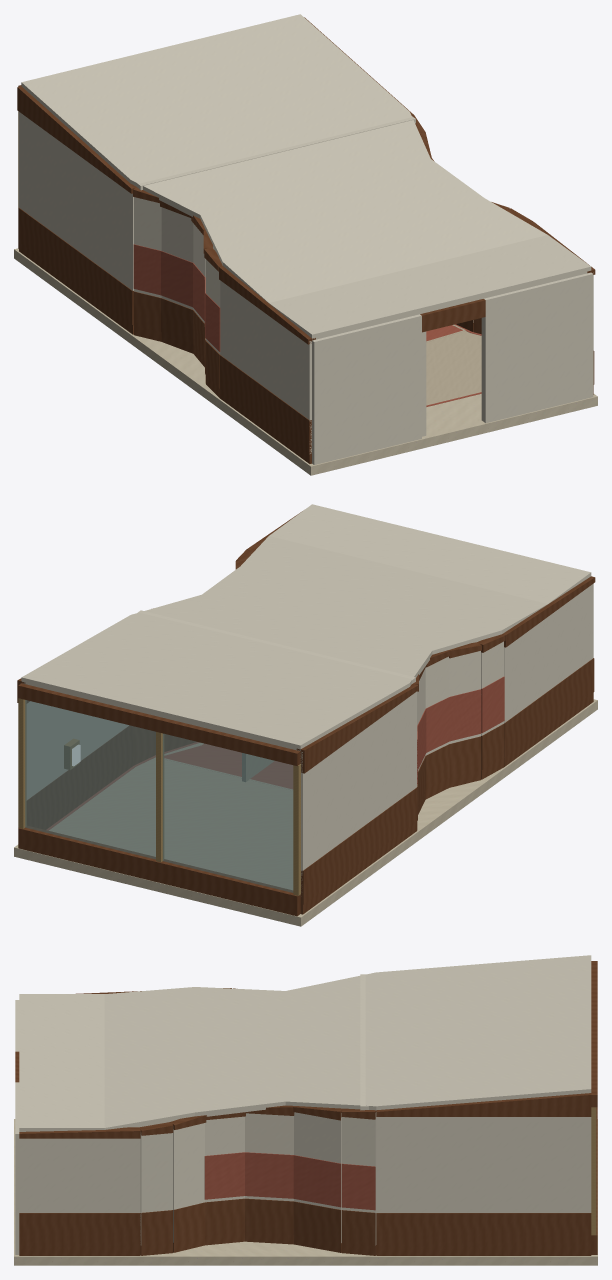
The model's file is shell.glb.
3 renders of one model, top to bottom at view 1: azimuth 30°, elevation 25°; view 2: azimuth 150°, elevation 25°; view 3: azimuth 270°, elevation 25°, orthographic.
Visible parts, largest first — view 1: SUI_Runtime_ivory_enamel, SUI_Runtime_warm_walnut, SUI_Runtime_warm_stone, SUI_Runtime_clay_weave, SUI_Runtime_oatmeal_weave; view 2: SUI_Runtime_ivory_enamel, SUI_Runtime_warm_walnut, SUI_Runtime_SuiteHospitalityGlass, SUI_Runtime_oatmeal_weave, SUI_Runtime_warm_stone, SUI_Runtime_clay_weave, SUI_Runtime_champagne_metal; view 3: SUI_Runtime_ivory_enamel, SUI_Runtime_warm_walnut, SUI_Runtime_warm_stone, SUI_Runtime_clay_weave, SUI_Runtime_champagne_metal.
Part boxes in pixels (<box>): SUI_Runtime_ivory_enamel: <box>19,14,593,464</box>; SUI_Runtime_warm_walnut: <box>17,17,595,463</box>; SUI_Runtime_warm_stone: <box>14,248,597,475</box>; SUI_Runtime_clay_weave: <box>133,244,481,406</box>; SUI_Runtime_oatmeal_weave: <box>213,248,481,405</box>; SUI_Runtime_ivory_enamel: <box>21,504,593,885</box>; SUI_Runtime_warm_walnut: <box>17,511,595,916</box>; SUI_Runtime_SuiteHospitalityGlass: <box>25,700,293,892</box>; SUI_Runtime_oatmeal_weave: <box>49,743,292,889</box>; SUI_Runtime_warm_stone: <box>14,699,597,926</box>; SUI_Runtime_clay_weave: <box>46,676,504,830</box>; SUI_Runtime_champagne_metal: <box>18,698,300,895</box>; SUI_Runtime_ivory_enamel: <box>15,955,591,1254</box>; SUI_Runtime_warm_walnut: <box>15,961,597,1255</box>; SUI_Runtime_warm_stone: <box>14,1119,597,1265</box>; SUI_Runtime_clay_weave: <box>204,1152,375,1210</box>; SUI_Runtime_champagne_metal: <box>591,1107,596,1235</box>.
Size of the model in its own units: 7.2 by 4.26 by 12.9.
Materials: 8 (6 with a texture image).
